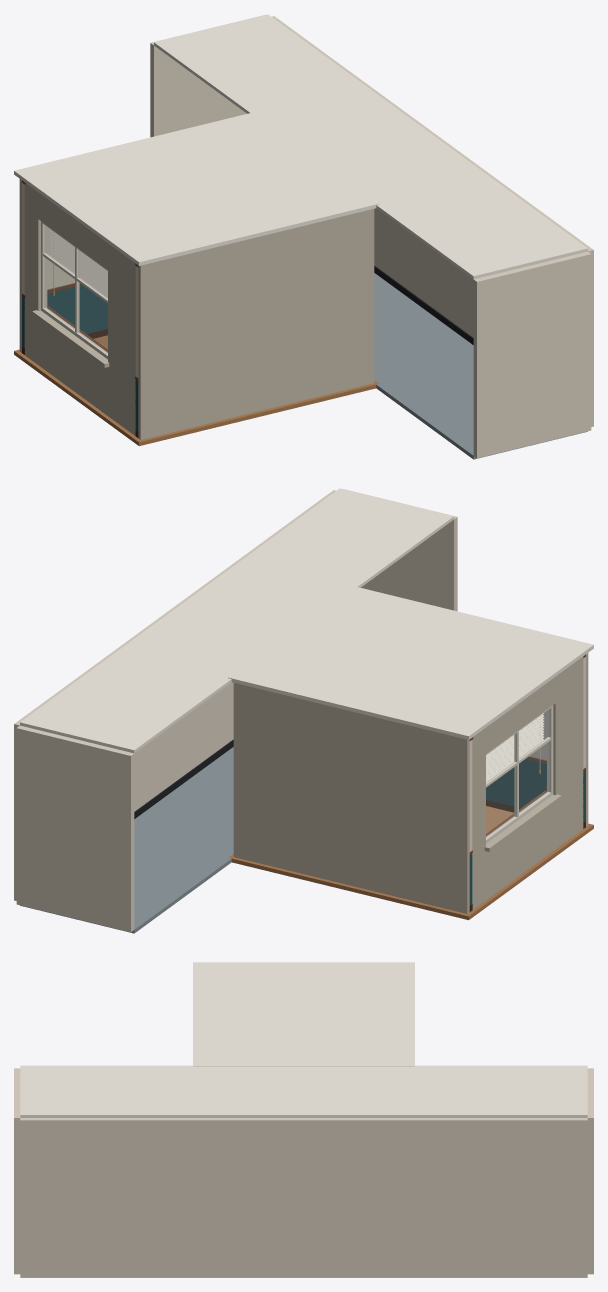
File: RmOfficeShell.fbx
3 renders of one model, top to bottom at view 1: azimuth 30°, elevation 25°; view 2: azimuth 150°, elevation 25°; view 3: azimuth 270°, elevation 25°, orthographic. The views are drawn at different scales.
Visible parts, largest first — view 1: Corridor, Walls, Floor, WindowGlass, WindowFrame, Blinds; view 2: Corridor, Walls, Floor, WindowGlass, WindowFrame, Blinds; view 3: Corridor, Floor.
Boxes of the visible parts, bbox=[...] form: Corridor: bbox=[150, 14, 593, 459]; Walls: bbox=[19, 179, 374, 439]; Floor: bbox=[14, 112, 379, 446]; WindowGlass: bbox=[44, 225, 107, 353]; WindowFrame: bbox=[32, 221, 109, 367]; Blinds: bbox=[50, 229, 107, 297]; Corridor: bbox=[14, 488, 457, 933]; Walls: bbox=[233, 653, 588, 913]; Floor: bbox=[228, 586, 593, 920]; WindowGlass: bbox=[486, 710, 548, 837]; WindowFrame: bbox=[484, 705, 561, 851]; Blinds: bbox=[486, 713, 544, 781]; Corridor: bbox=[14, 1065, 593, 1277]; Floor: bbox=[193, 962, 414, 1066].
Size of the model in its own units: 5.96 by 2.92 by 9.4.
